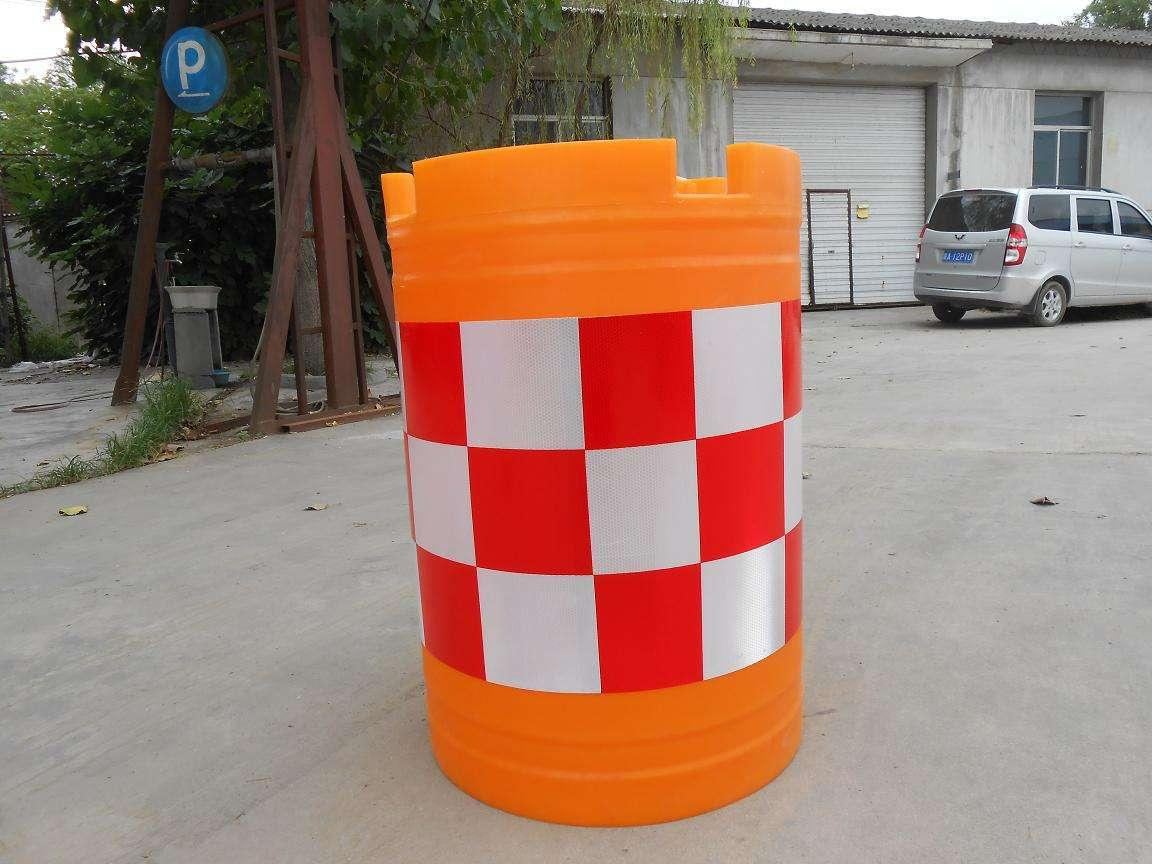sign: (358, 125, 865, 829)
